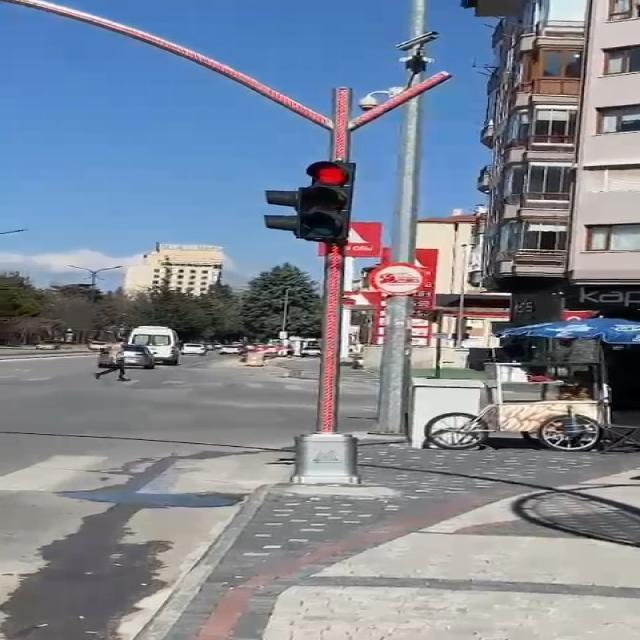kirmizi: (264, 160, 356, 242)
